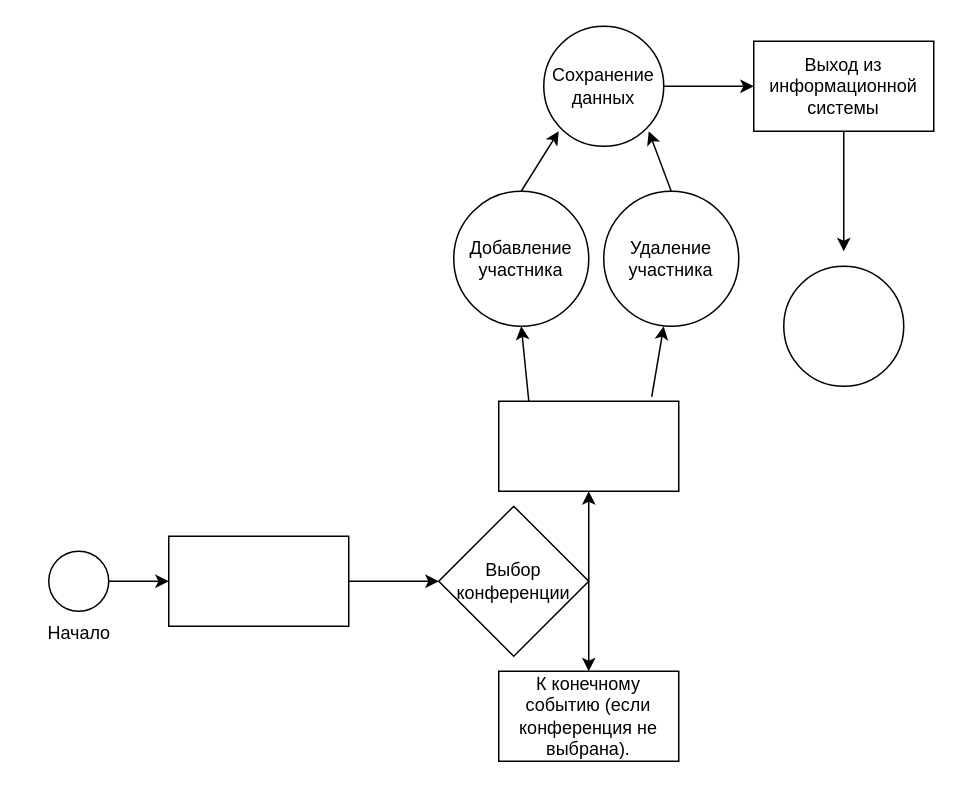
This 960x788 diagram has some shape labels left out. The box of each missing label's shape, as (x1, y1, x2, y2) in pixels:
Завершение процеса: (782, 265, 904, 386)
Просмотр списка конференций: (167, 535, 349, 626)
Просмотр участников конференции: (497, 400, 679, 491)
